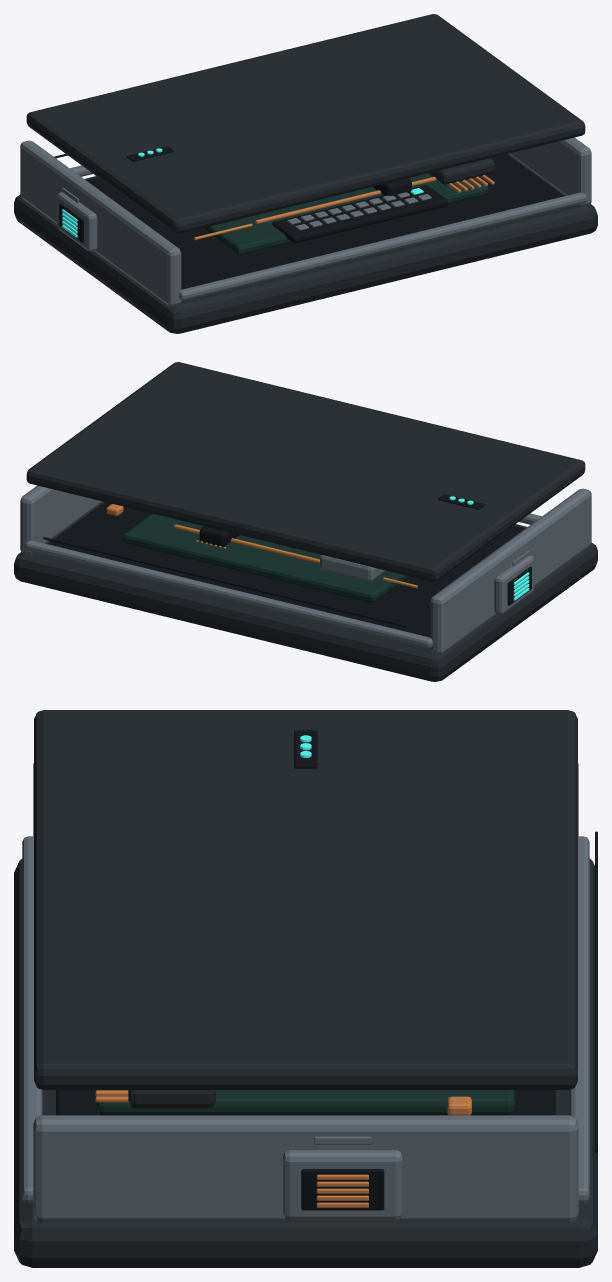
Rendered from client.glb.
3 renders of one model, top to bottom at view 1: azimuth 30°, elevation 25°; view 2: azimuth 150°, elevation 25°; view 3: azimuth 270°, elevation 25°, orthographic. The views are drawn at different scales.
Parts seen in each view (by area): view 1: batch-lid-Graphite-ceramic, batch-shell-Machined-titanium, batch-shell-Graphite-ceramic, batch-shell-Shadow-graphite, batch-core-Circuit-substrate, batch-core-Copper-contact, batch-port-in-Machined-titanium, batch-core-Graphite-ceramic, batch-core-Shadow-graphite; view 2: batch-lid-Graphite-ceramic, batch-shell-Graphite-ceramic, batch-shell-Machined-titanium, batch-shell-Shadow-graphite, batch-core-Circuit-substrate, batch-port-in-Machined-titanium, batch-core-Machined-titanium, batch-core-Copper-contact, batch-core-Shadow-graphite; view 3: batch-lid-Graphite-ceramic, batch-shell-Machined-titanium, batch-shell-Graphite-ceramic, batch-core-Circuit-substrate, batch-port-out-Machined-titanium, batch-shell-Shadow-graphite, batch-port-out-Shadow-graphite, batch-core-Graphite-ceramic, batch-port-out-Copper-contact, batch-core-Copper-contact, batch-lid-Shadow-graphite.
Boxes of the visible parts, left/top/right/bottom form: batch-lid-Graphite-ceramic: left=26, top=14, right=585, bottom=233; batch-shell-Machined-titanium: left=20, top=137, right=591, bottom=306; batch-shell-Graphite-ceramic: left=14, top=153, right=597, bottom=333; batch-shell-Shadow-graphite: left=54, top=154, right=564, bottom=289; batch-core-Circuit-substrate: left=201, top=173, right=488, bottom=255; batch-core-Copper-contact: left=194, top=175, right=494, bottom=240; batch-port-in-Machined-titanium: left=57, top=187, right=97, bottom=251; batch-core-Graphite-ceramic: left=428, top=158, right=495, bottom=184; batch-core-Shadow-graphite: left=372, top=178, right=411, bottom=196; batch-lid-Graphite-ceramic: left=26, top=362, right=585, bottom=581; batch-shell-Graphite-ceramic: left=14, top=501, right=597, bottom=681; batch-shell-Machined-titanium: left=20, top=485, right=591, bottom=654; batch-shell-Shadow-graphite: left=43, top=502, right=525, bottom=637; batch-core-Circuit-substrate: left=123, top=513, right=410, bottom=603; batch-port-in-Machined-titanium: left=494, top=550, right=534, bottom=614; batch-core-Machined-titanium: left=320, top=555, right=386, bottom=581; batch-core-Copper-contact: left=106, top=504, right=417, bottom=588; batch-core-Shadow-graphite: left=199, top=526, right=239, bottom=546; batch-lid-Graphite-ceramic: left=34, top=710, right=577, bottom=1089; batch-shell-Machined-titanium: left=22, top=763, right=589, bottom=1222; batch-shell-Graphite-ceramic: left=14, top=858, right=597, bottom=1267; batch-core-Circuit-substrate: left=97, top=1090, right=514, bottom=1115; batch-port-out-Machined-titanium: left=283, top=1136, right=402, bottom=1219; batch-shell-Shadow-graphite: left=56, top=831, right=597, bottom=1152; batch-port-out-Shadow-graphite: left=301, top=1169, right=384, bottom=1210; batch-core-Graphite-ceramic: left=128, top=1090, right=215, bottom=1108; batch-port-out-Copper-contact: left=316, top=1174, right=368, bottom=1207; batch-core-Copper-contact: left=95, top=1090, right=471, bottom=1115; batch-lid-Shadow-graphite: left=294, top=730, right=317, bottom=768.
Bounding box in the file's own units: 6.12 × 1.47 × 3.8.
